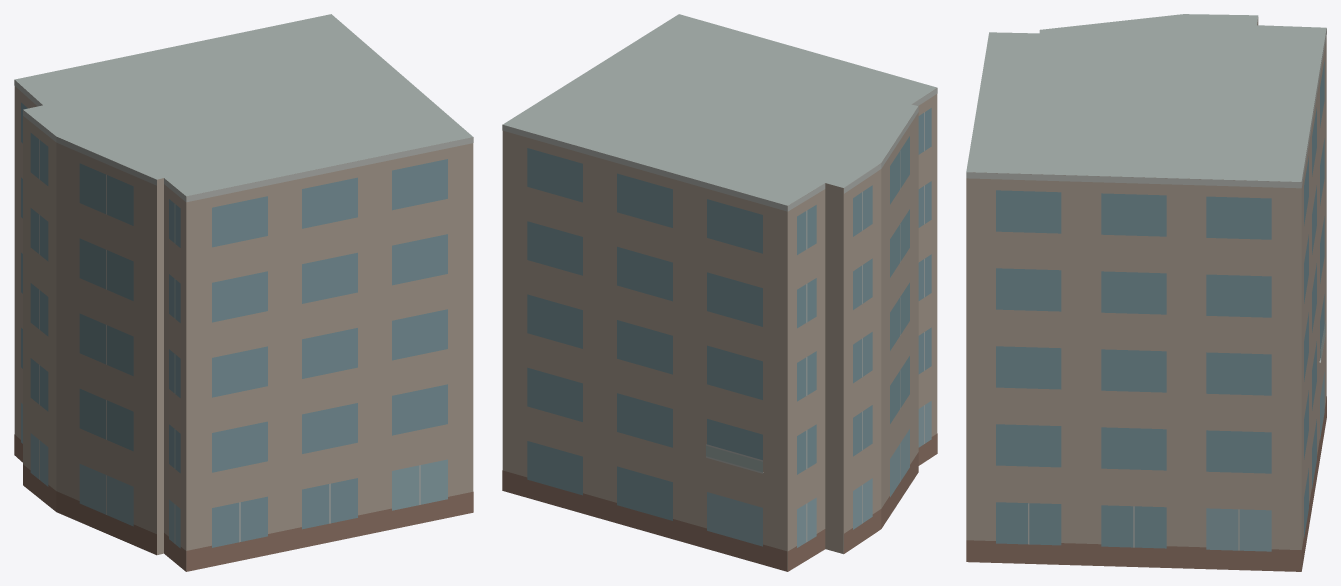
The model's file is survey-upis-32766474.glb.
3 renders of one model, left to right at view 1: azimuth 30°, elevation 25°; view 2: azimuth 150°, elevation 25°; view 3: azimuth 270°, elevation 25°, orthographic. The views are drawn at different scales.
Parts seen in each view (by area): view 1: survey-upis-32766474.tmp; view 2: survey-upis-32766474.tmp; view 3: survey-upis-32766474.tmp.
Boxes of the visible parts, <box> form: survey-upis-32766474.tmp: <box>14,14,473,571</box>; survey-upis-32766474.tmp: <box>502,14,937,571</box>; survey-upis-32766474.tmp: <box>966,14,1326,571</box>.
Size of the model in its own units: 14.11 by 15.25 by 12.8.
